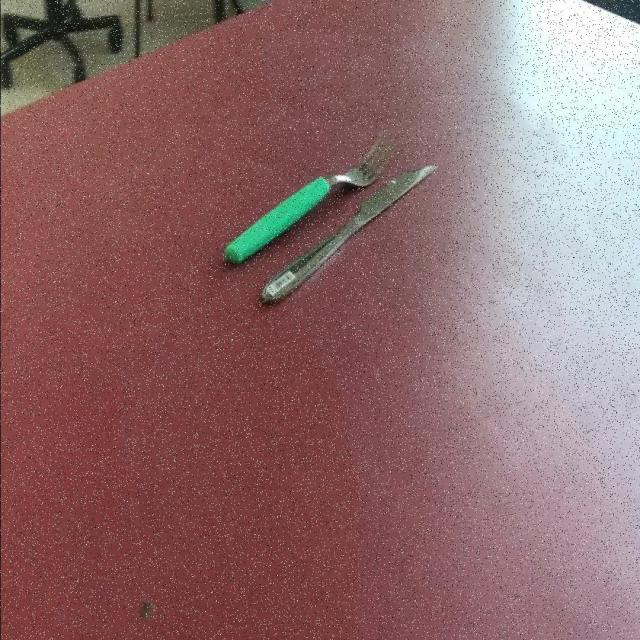Fork: (223, 131, 395, 264)
Knife: (261, 162, 438, 303)
